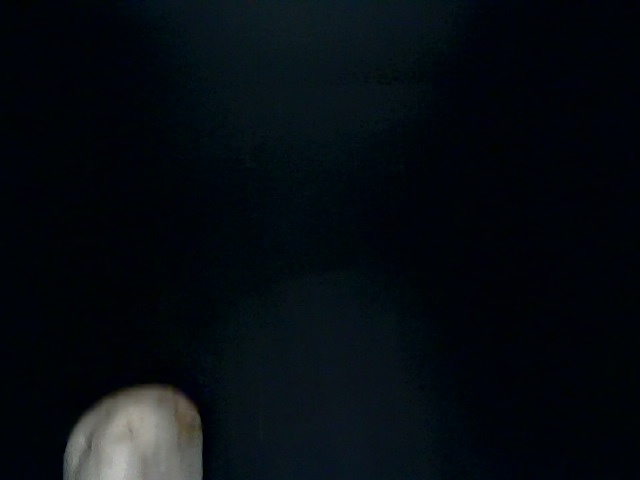QTLJ: (86, 111, 377, 318)
